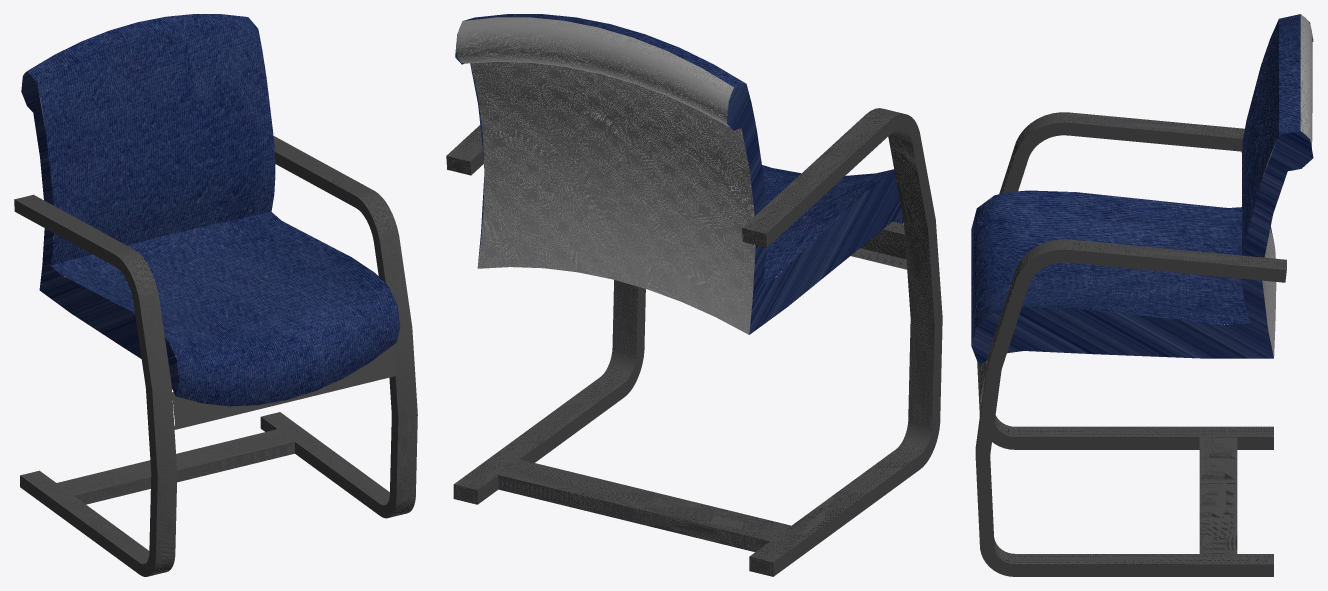
File: chair2.glb
3 views of the same model, side by side, from view 1: azimuth 30°, elevation 25°; view 2: azimuth 150°, elevation 25°; view 3: azimuth 270°, elevation 25° (orthographic). The views are drawn at different scales.
Visible parts, largest first — view 1: Node2, Node1; view 2: Node3, Node1, Node2; view 3: Node2, Node1, Node3.
Boxes of the visible parts, x1=… form: Node2: x1=21, y1=14, x2=400, y2=406; Node1: x1=14, y1=136, x2=417, y2=576; Node3: x1=456, y1=17, x2=755, y2=334; Node1: x1=446, y1=108, x2=942, y2=576; Node2: x1=455, y1=14, x2=903, y2=334; Node2: x1=971, y1=14, x2=1313, y2=365; Node1: x1=975, y1=112, x2=1286, y2=576; Node3: x1=1262, y1=14, x2=1312, y2=357.
Bounding box in the file's own units: 57.87 × 90.21 × 60.88.
3 materials, 1 textured.
